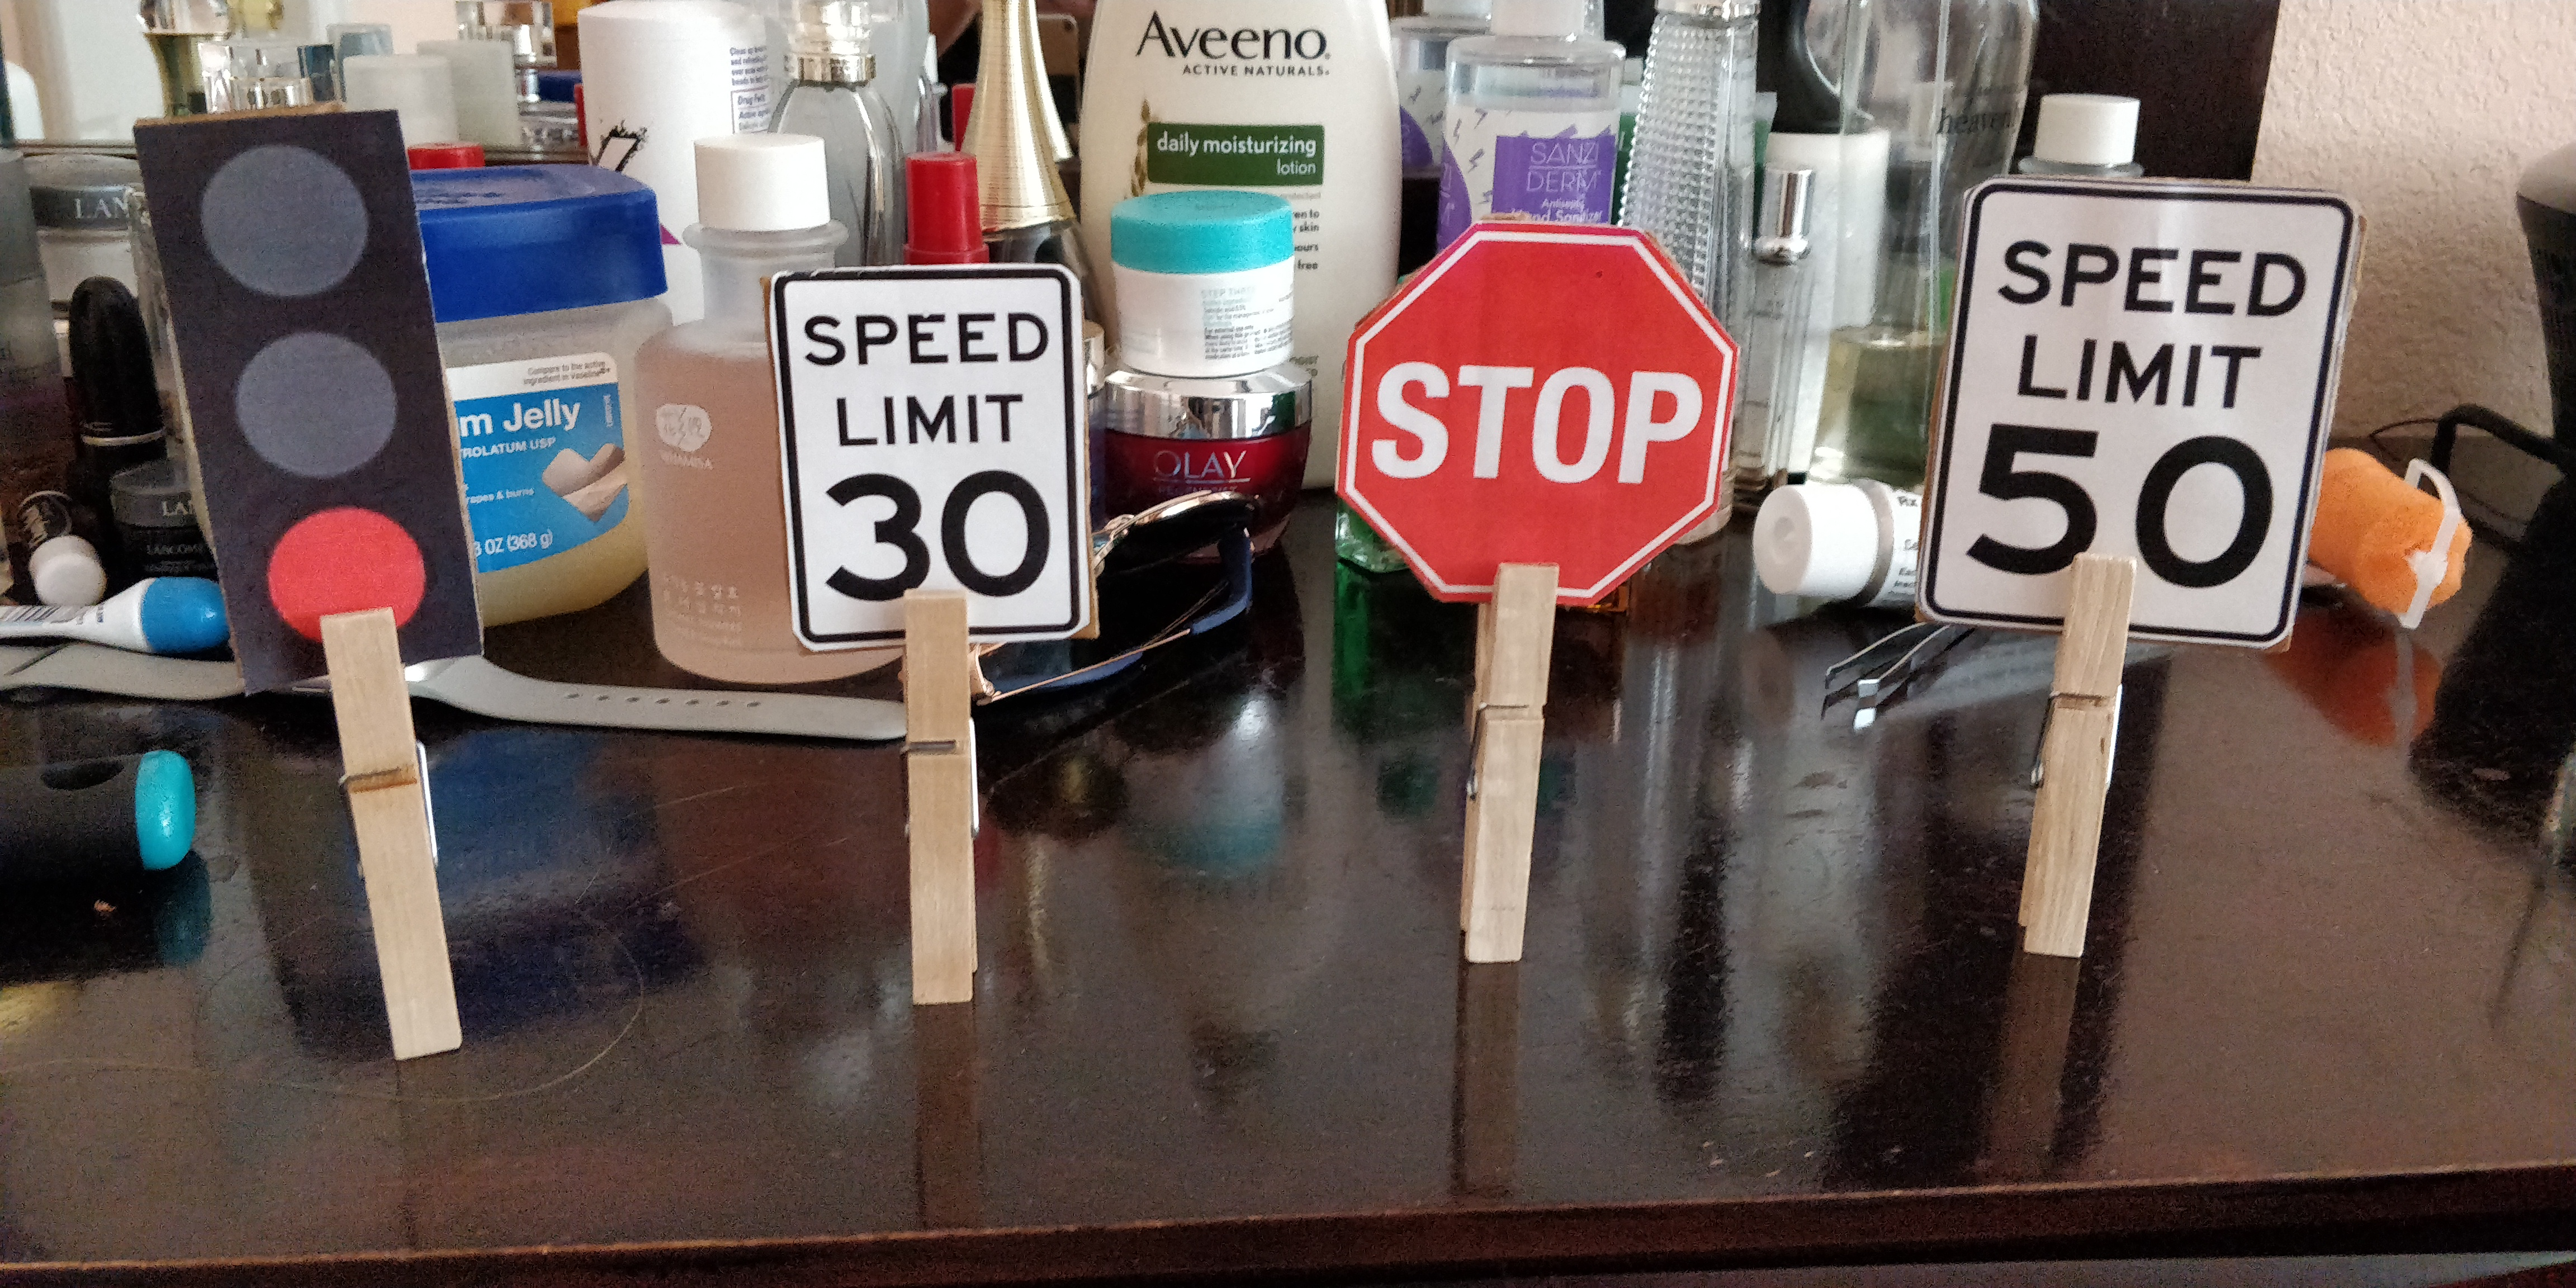Speed Limit 30: (769, 260, 1101, 652)
Speed Limit 50: (1919, 176, 2369, 646)
Stop Sign: (1337, 223, 1740, 601)
red light: (131, 105, 483, 697)
